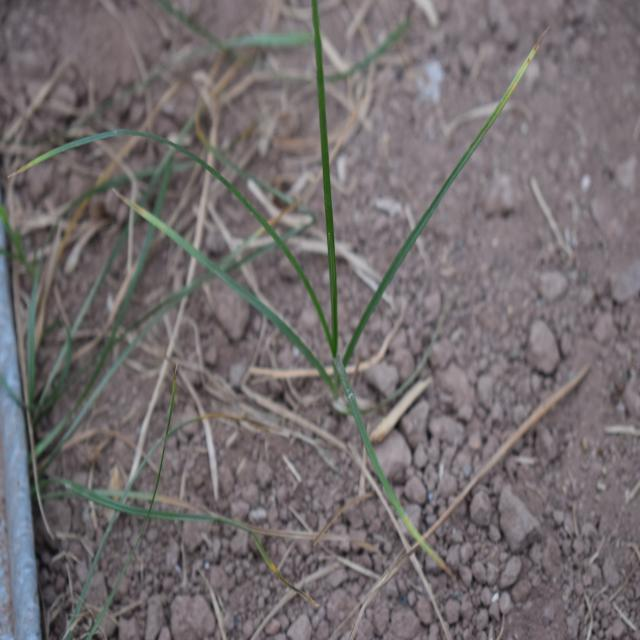sedge: (134, 15, 488, 568)
